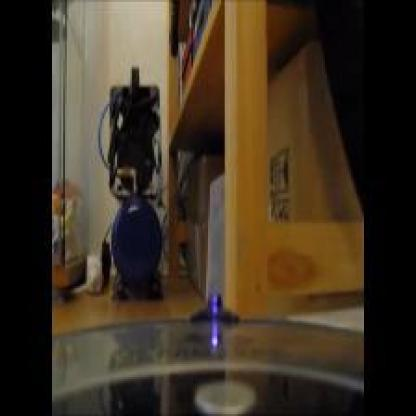other: (224, 202, 368, 316)
